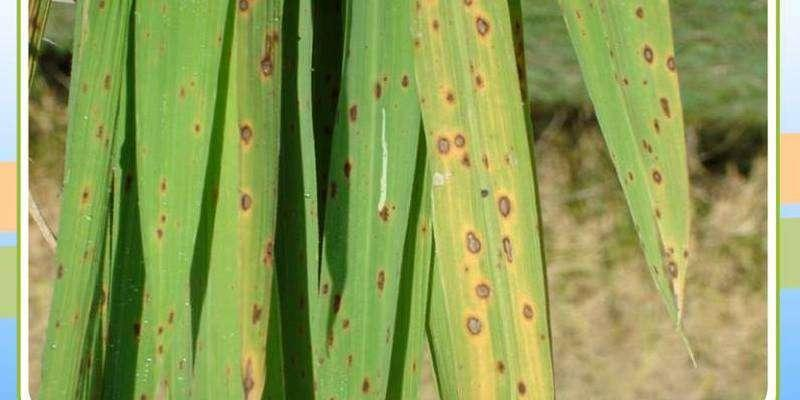black-spot: (430, 107, 527, 347)
